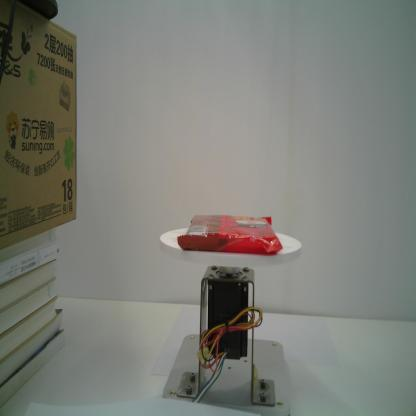Dessert: (176, 214, 283, 257)
